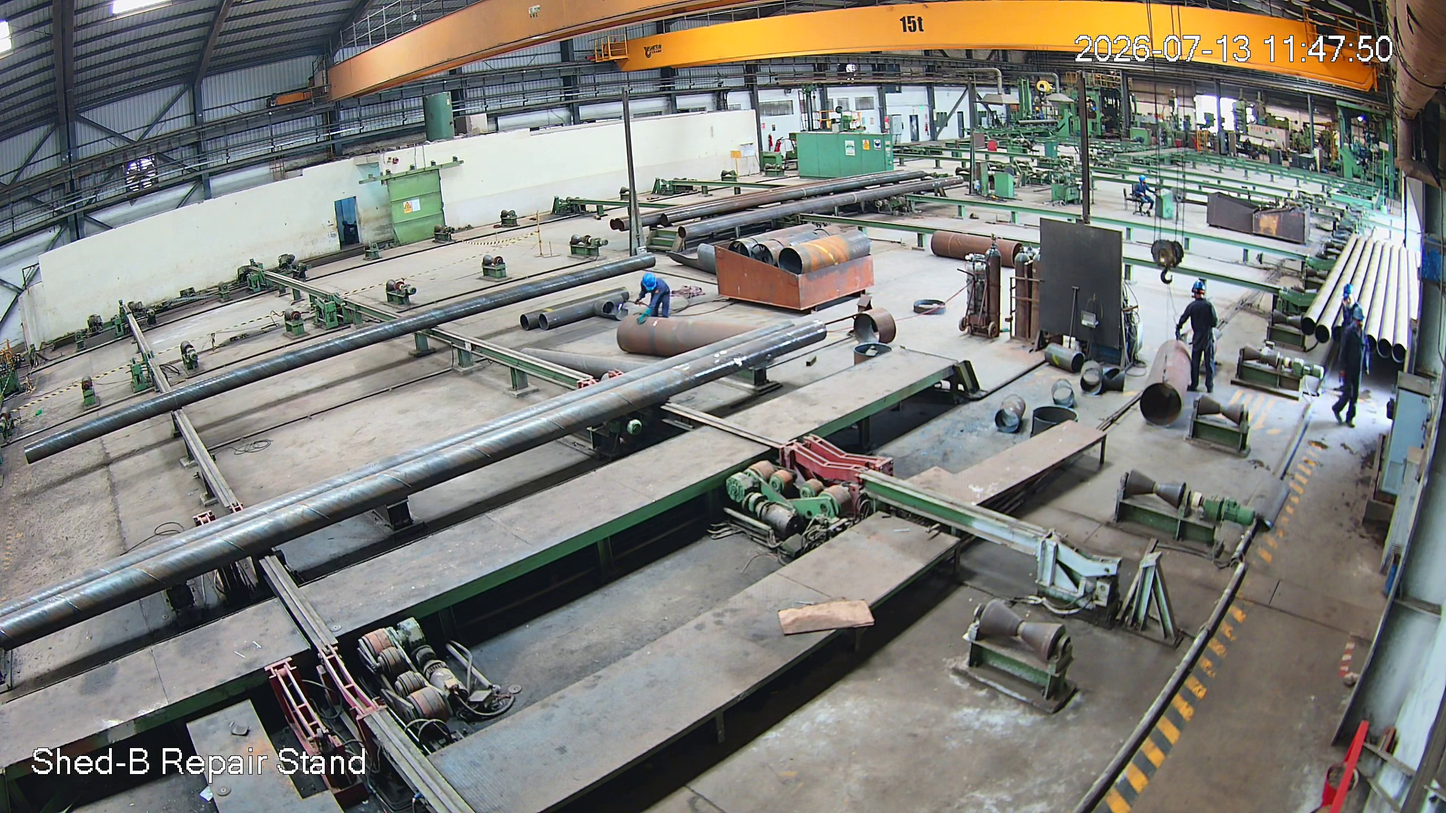Helmet: (638, 269, 659, 301), (1188, 279, 1209, 306), (1348, 307, 1371, 330)
Person: (1186, 280, 1219, 393), (1346, 309, 1374, 420), (637, 272, 672, 329)
